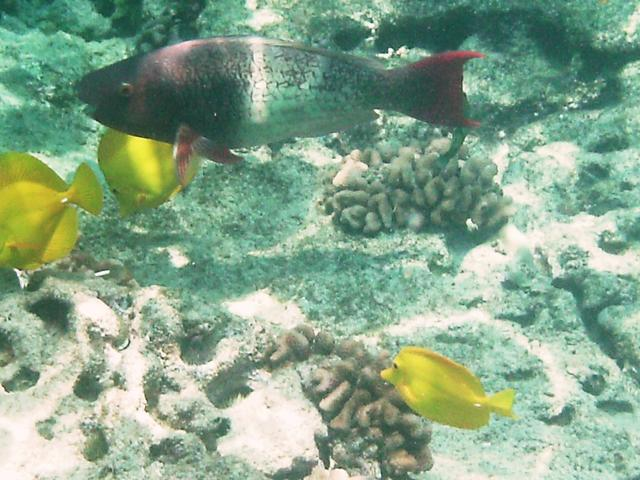fish: (44, 15, 506, 237)
